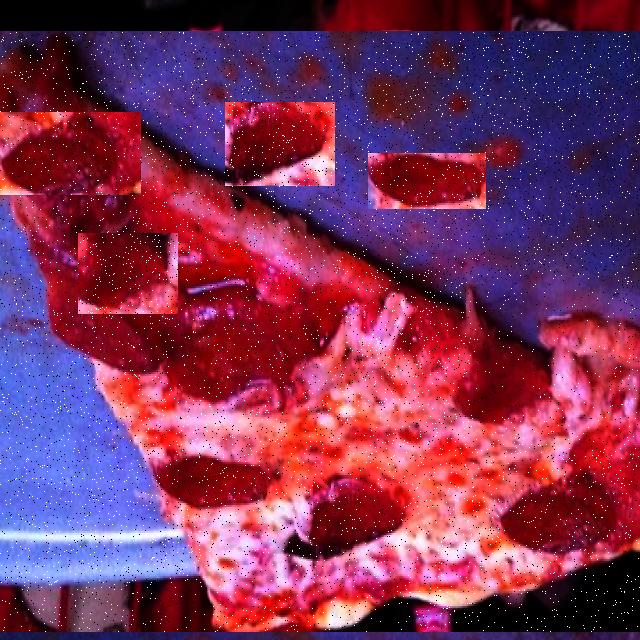Pepperoni: (471, 278, 608, 425), (339, 257, 479, 381), (0, 112, 141, 195), (225, 102, 335, 186), (78, 234, 178, 316), (368, 153, 486, 209)
Pizza: (0, 32, 640, 632)
